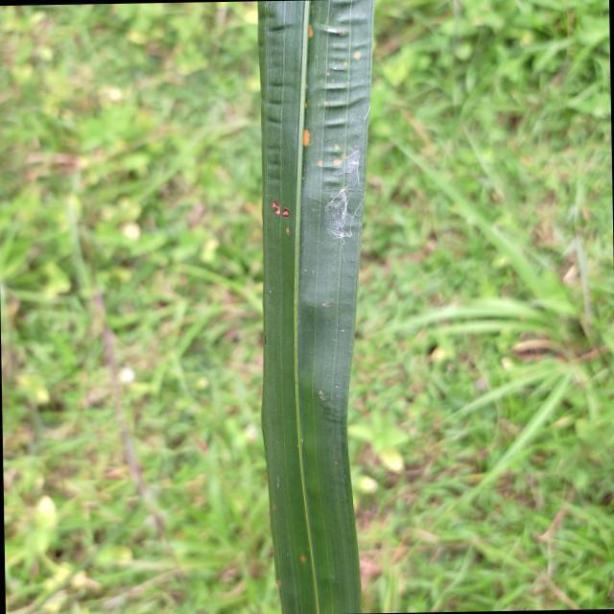Boron: (251, 0, 376, 614)
